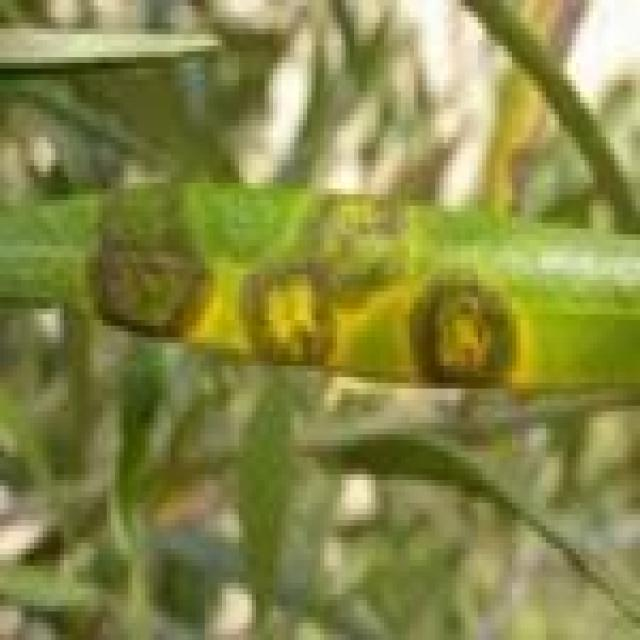OlivePeacockSpot: (0, 183, 636, 383)
